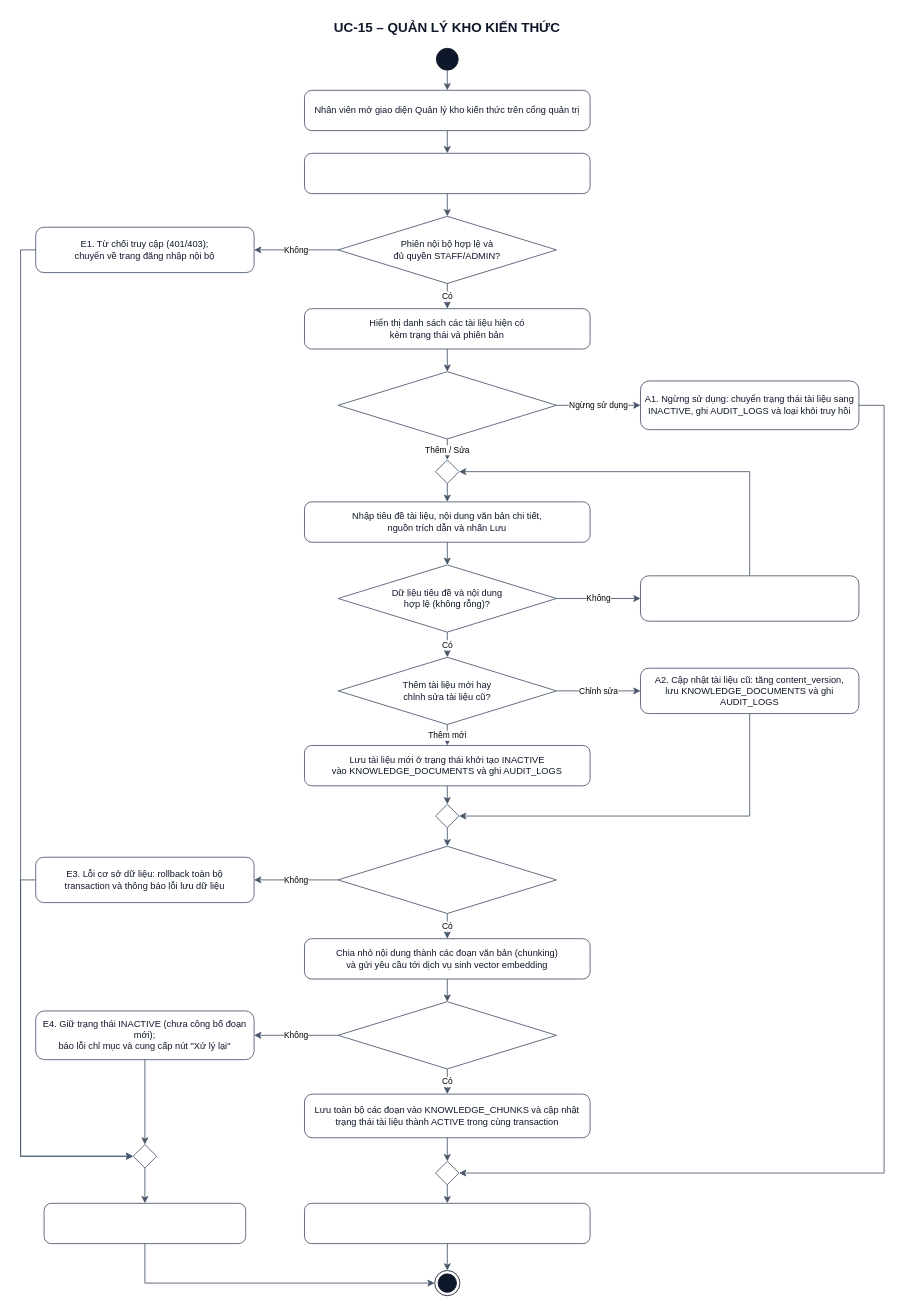
Image size: 906x1310. Some labels were removed from this diagram. The box of each missing label's shape, as (x1, y1, x2, y2) in pixels:
E2. Thông báo lỗi trường bắt buộc; giữ nguyên biểu mẫu để nhân viên chỉnh sửa: (640, 575, 859, 621)
Giao dịch lưu cơ sở dữ liệu thành công?: (337, 845, 556, 914)
Không hoàn tất chỉ mục hóa tài liệu: (43, 1202, 246, 1244)
Kiểm tra phiên làm việc nội bộ và quyền STAFF hoặc ADMIN: (304, 152, 590, 194)
Sinh vector embedding thành công và khớp phiên bản nguồn?: (337, 1001, 556, 1069)
Thao tác nhân viên lựa chọn thực hiện?: (337, 371, 556, 439)
Thông báo lưu và cập nhật kho kiến thức thành công: (304, 1202, 590, 1244)
